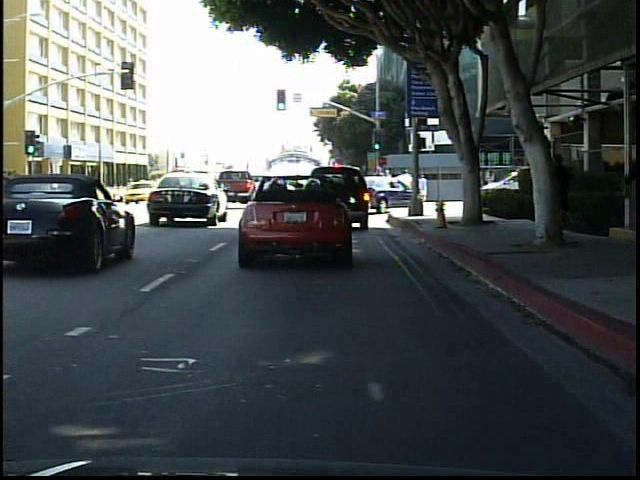person: (540, 147, 569, 238), (129, 176, 136, 192)
